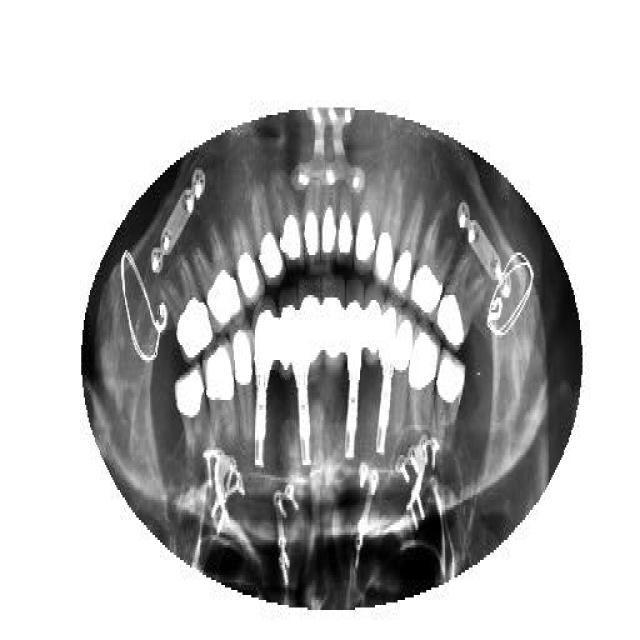Fillings: (160, 257, 215, 365), (193, 225, 245, 335), (408, 210, 458, 320), (441, 248, 489, 352), (175, 362, 216, 468), (204, 338, 238, 460), (391, 192, 425, 300), (252, 182, 286, 288), (409, 323, 441, 435), (374, 170, 405, 285), (231, 210, 265, 312), (434, 350, 466, 458), (272, 172, 306, 272), (354, 165, 384, 275), (230, 322, 255, 450), (321, 280, 345, 380), (276, 290, 296, 382), (392, 305, 418, 375), (362, 283, 383, 365), (335, 180, 354, 265), (304, 177, 322, 265), (322, 185, 338, 263)
Implant: (295, 278, 323, 468), (373, 298, 402, 458), (252, 298, 278, 472), (342, 280, 362, 458)
